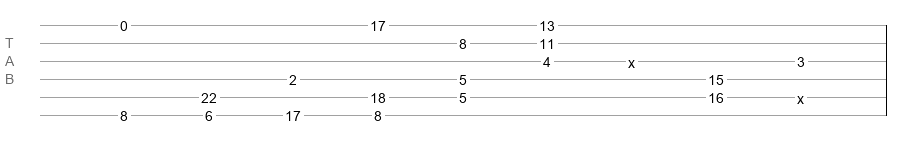0: (120, 18, 128, 28)
11: (539, 36, 555, 46)
13: (539, 18, 555, 28)
15: (708, 72, 724, 82)
16: (708, 90, 724, 100)
17: (285, 108, 301, 118), (370, 18, 386, 28)
18: (370, 90, 386, 100)
2: (289, 72, 297, 82)
22: (201, 90, 217, 100)
3: (797, 54, 805, 64)
4: (543, 54, 551, 64)
5: (459, 72, 467, 82), (459, 90, 467, 100)
6: (205, 108, 213, 118)
8: (120, 108, 128, 118), (374, 108, 382, 118), (459, 36, 467, 46)
x: (628, 55, 635, 63), (797, 91, 804, 99)
